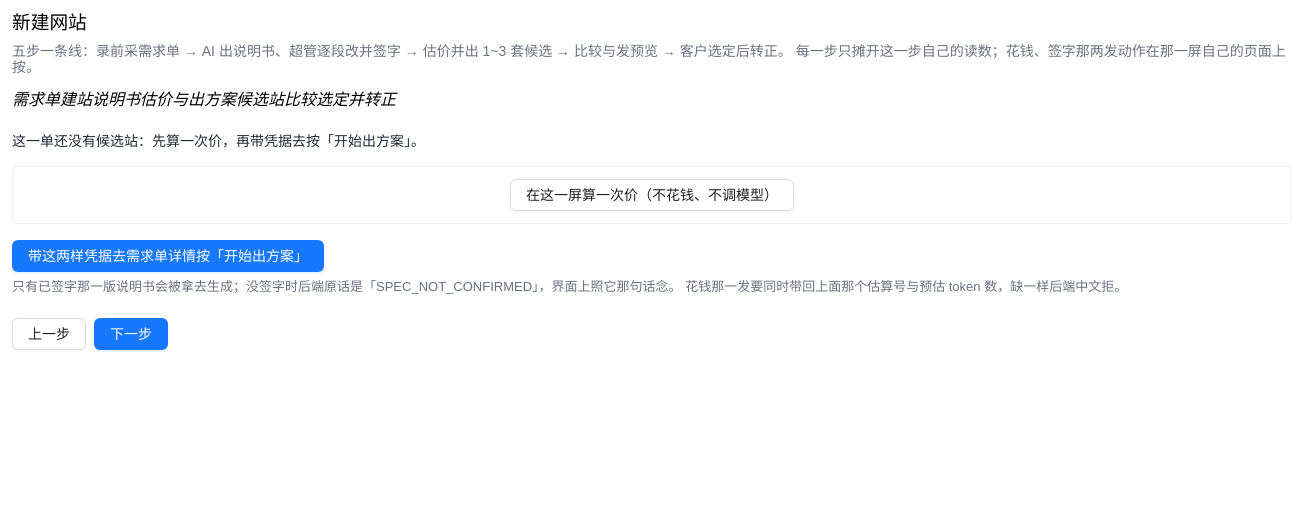
Scenario: 新建网站向导 › 第 3 步：出方案开关没开时不念成一张可以花的价签
Click the button "在这一屏算一次价（不花钱、不调模型）" at coordinates (652, 194), box 510,178 -> 794,210
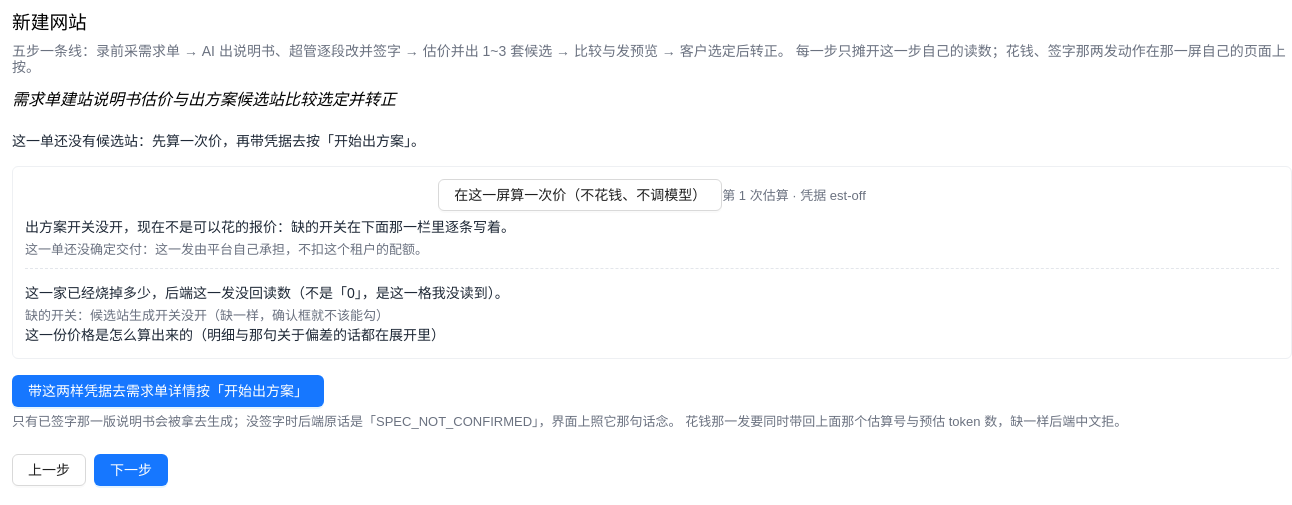
Expected: the text "出方案开关没开" is shown, 25,218 -> 515,234
Expected: the text "候选站生成开关没开" is shown, 25,308 -> 389,323
